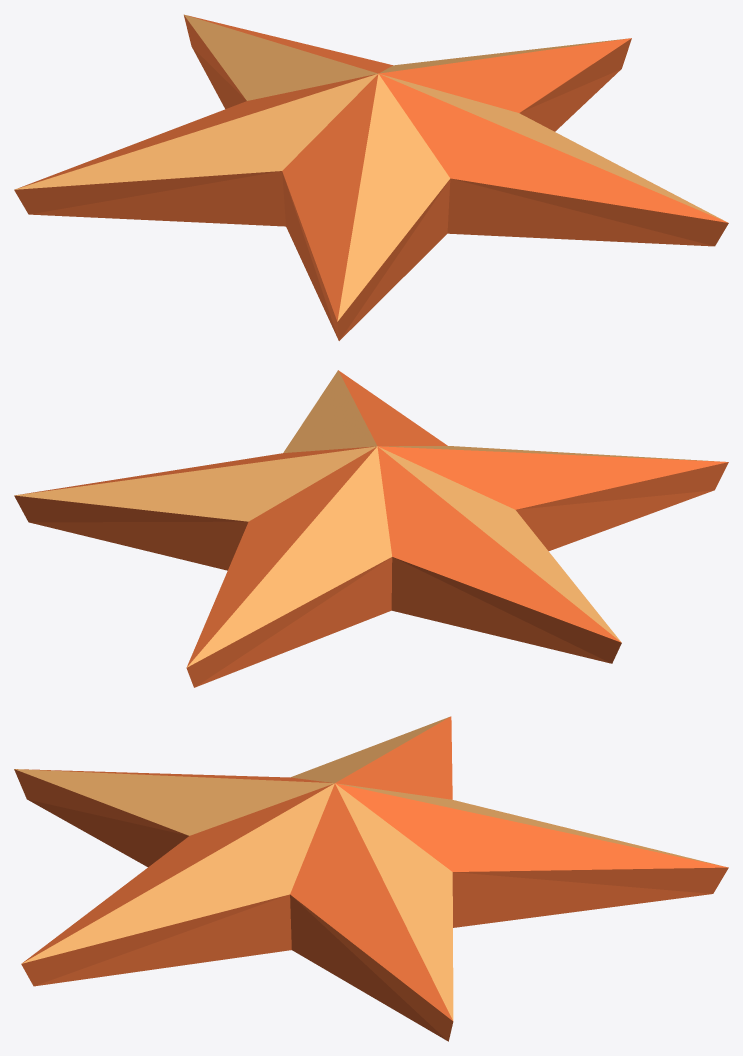
File: starfish.fbx
3 views of the same model, one above another, from view 1: azimuth 30°, elevation 25°; view 2: azimuth 150°, elevation 25°; view 3: azimuth 270°, elevation 25° (orthographic). The views are drawn at different scales.
Visible parts, largest first — view 1: starfish; view 2: starfish; view 3: starfish.
Part boxes in pixels (box(x1,y1,x2,y2)): starfish: box(14, 14, 728, 340); starfish: box(14, 370, 728, 687); starfish: box(14, 716, 728, 1041).
Size of the model in its own units: 248 by 42 by 246.
Materials: 1 (1 with a texture image).
